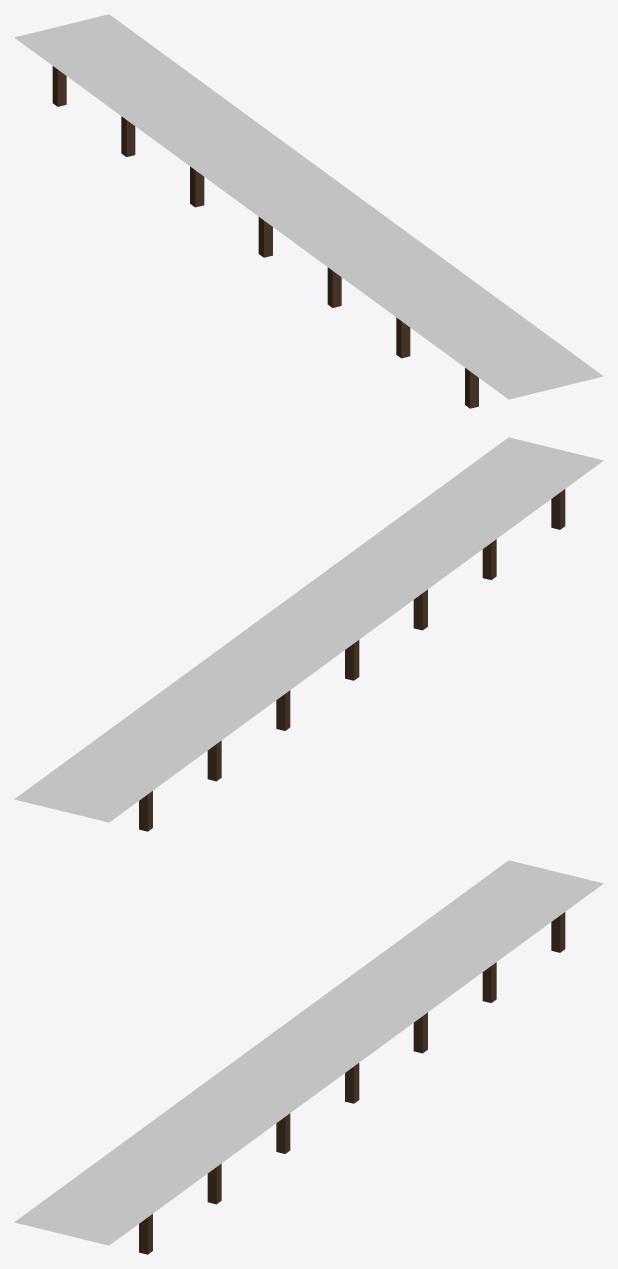
Rendered from pier.obj.
The picture shows the model from 3 angles, top to bottom: view 1: azimuth 30°, elevation 25°; view 2: azimuth 150°, elevation 25°; view 3: azimuth 330°, elevation 25°; orthographic projection.
Bounding box in the file's own units: 64 × 24 × 576.
